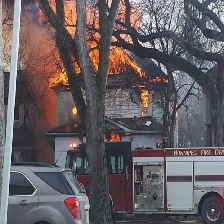fire: (37, 1, 178, 143)
smoke: (3, 1, 53, 122)
